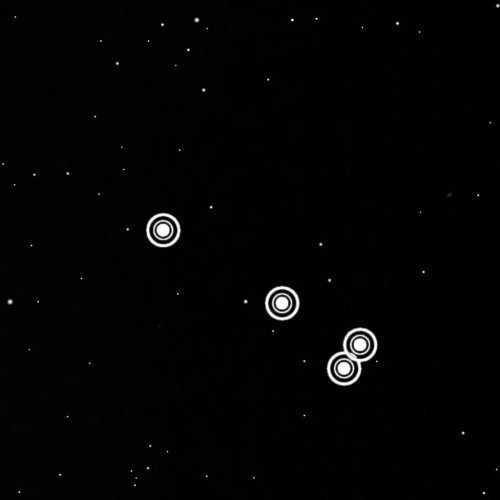sagitta: (137, 201, 392, 401)
